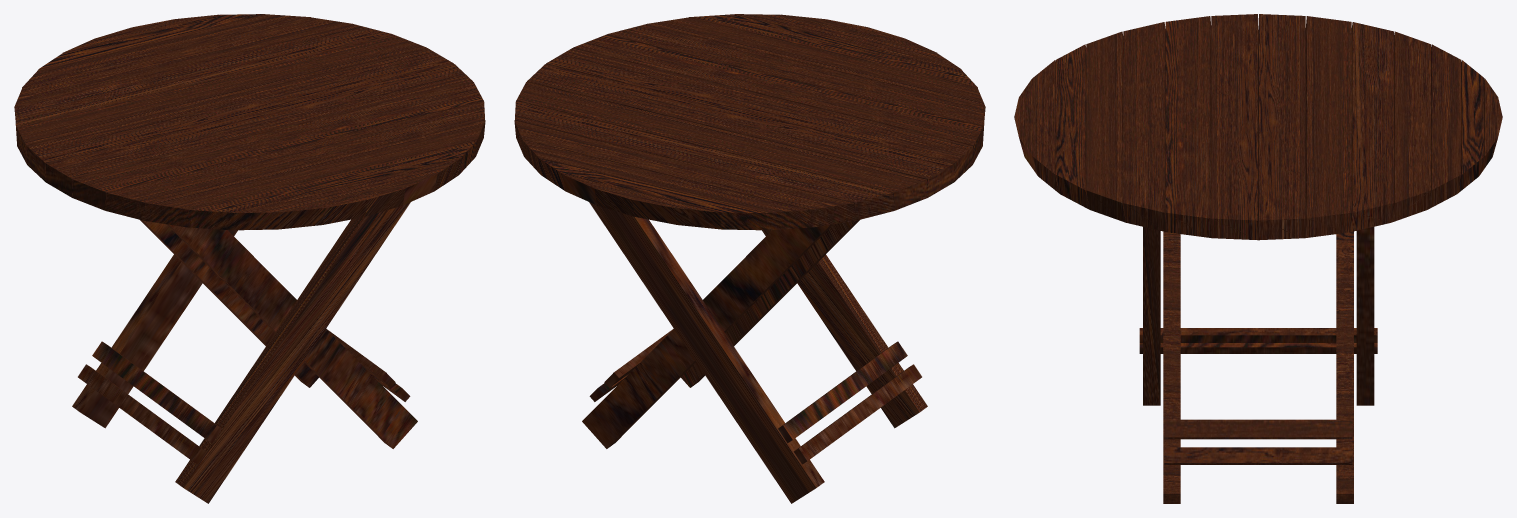
Rendered from MesaExt.fbx.
The picture shows the model from 3 angles, left to right: view 1: azimuth 30°, elevation 25°; view 2: azimuth 150°, elevation 25°; view 3: azimuth 270°, elevation 25°; orthographic projection. The views are drawn at different scales.
Parts seen in each view (by area): view 1: MesaExt; view 2: MesaExt; view 3: MesaExt.
Part boxes in pixels (left/top/right/bottom): MesaExt: left=14, top=14, right=485, bottom=503; MesaExt: left=514, top=14, right=985, bottom=503; MesaExt: left=1014, top=14, right=1502, bottom=503.
Size of the model in its own units: 101 by 76.83 by 101.
